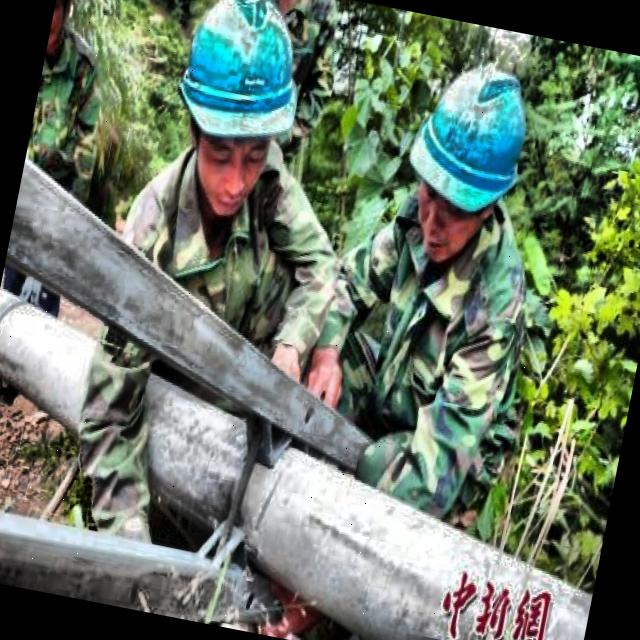helmet: (144, 0, 327, 240), (384, 35, 556, 285)
